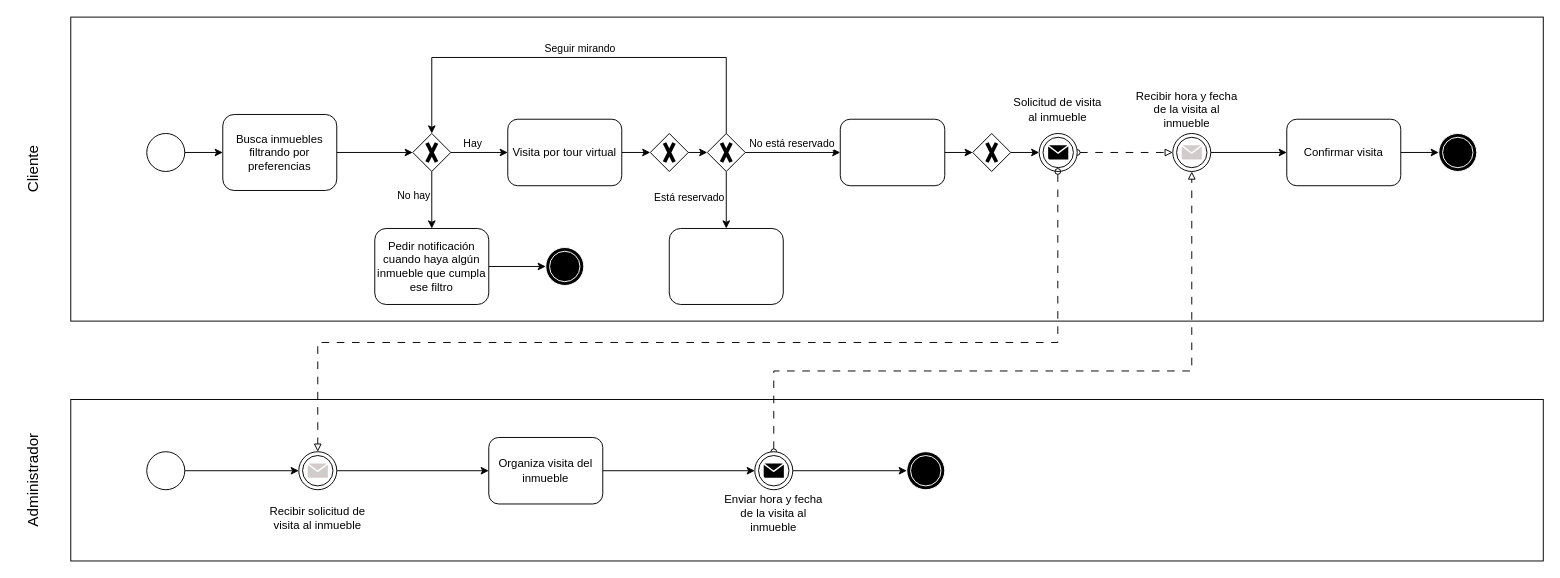
This 1560x578 diagram has some shape labels left out. Each missing label, with the box of its shape:
Pago de la reserva: (839, 118, 945, 186)
Pedir notificación si es comprado finalmente o no: (668, 228, 783, 304)
